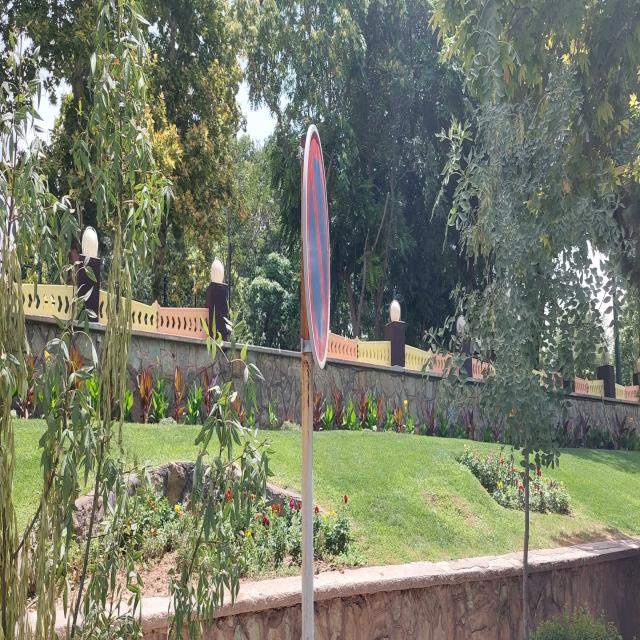forb_stopping: (301, 119, 332, 372)
